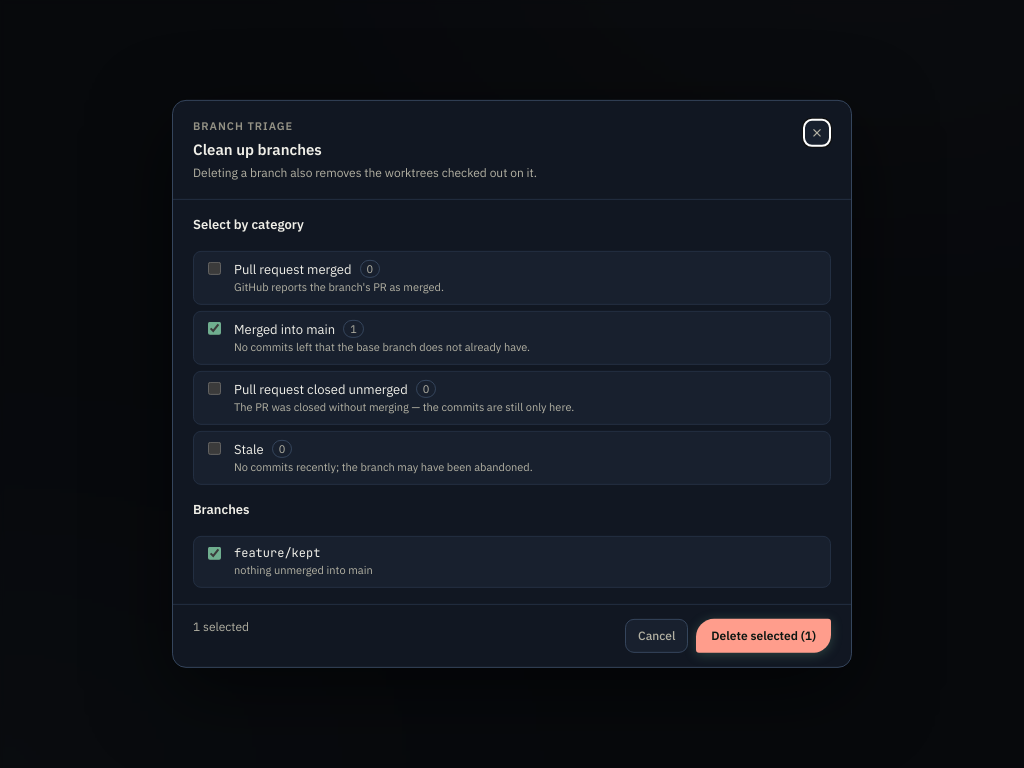
Test: a 200 refusal is not counted as a deletion
Click the button "Delete selected (1)" at (764,636), box [696, 619, 831, 653]
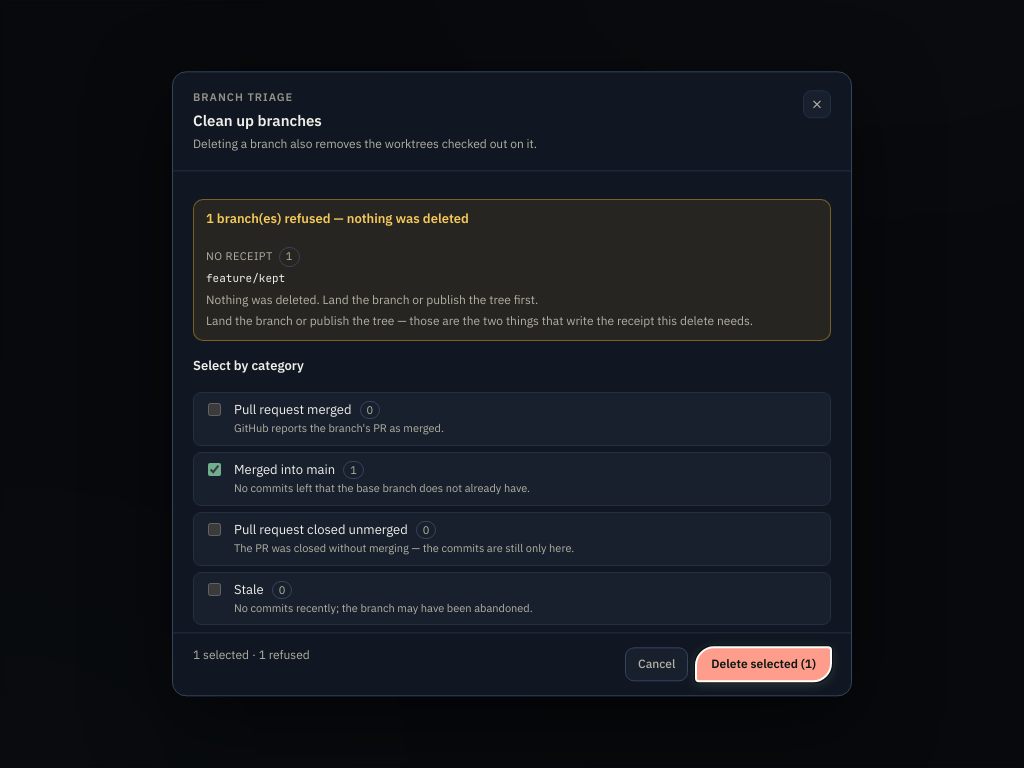
expect the message with class "branch-cleanup-refusals" is shown: met, box [193, 200, 831, 341]
